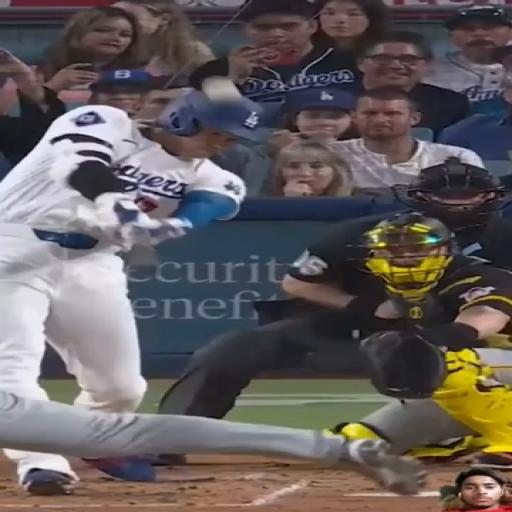bat: (115, 202, 161, 280)
